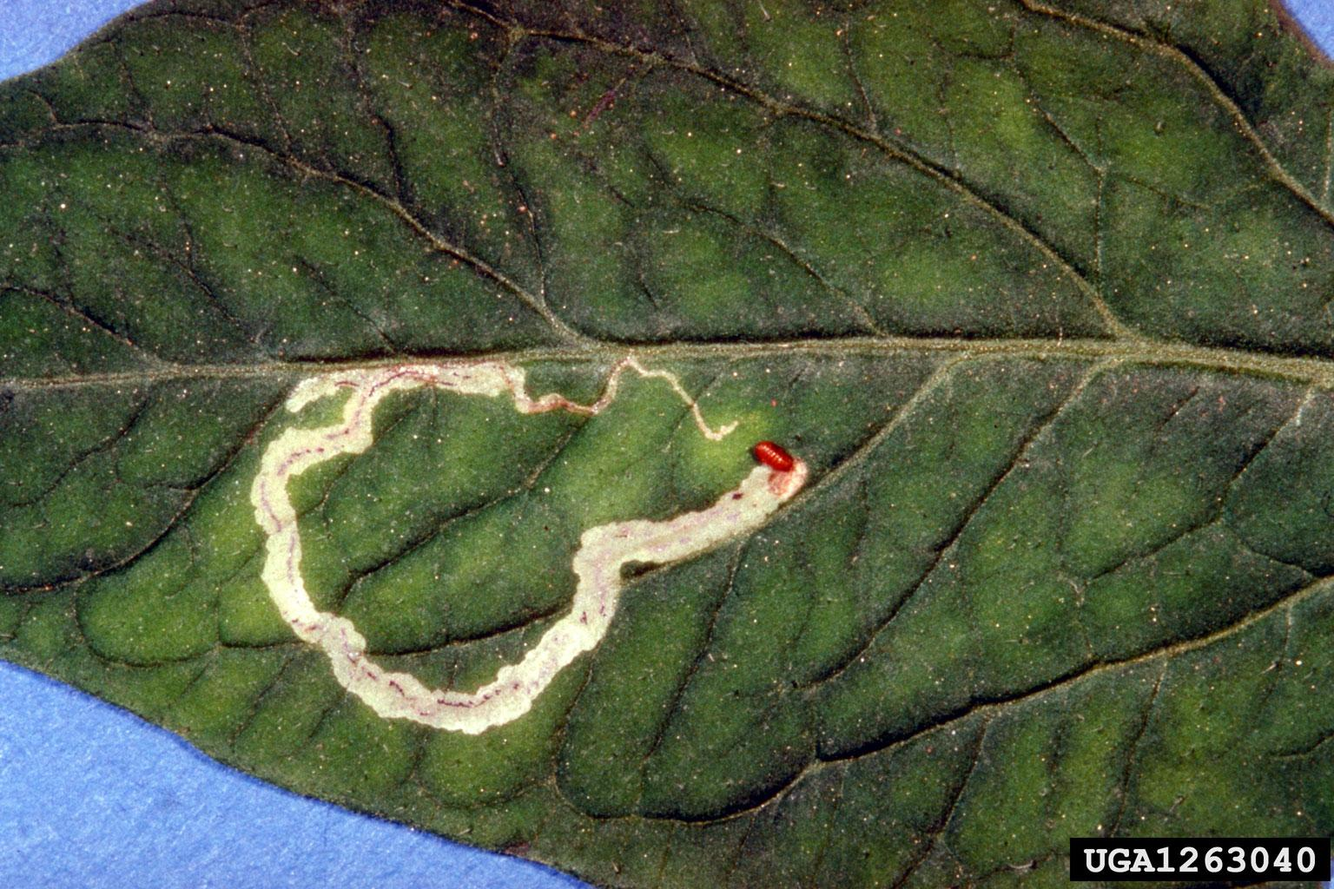Leaf_Miner: (0, 0, 1334, 838)
